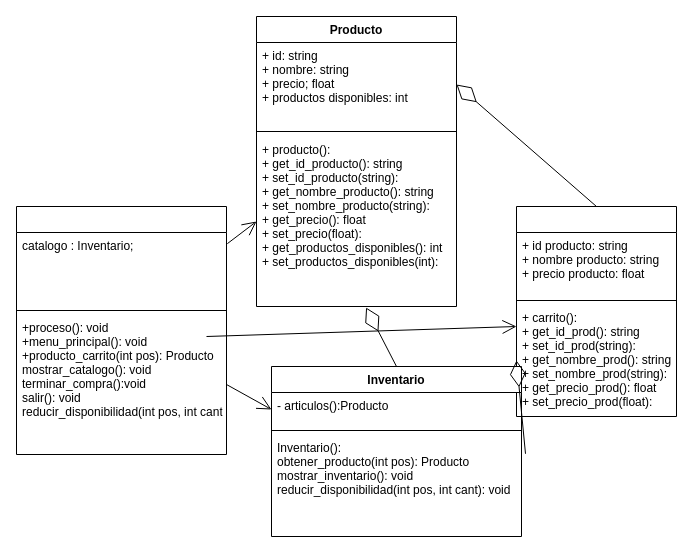
Some shapes in this 693 by 553 pixel diagram are drawn without their labels. The shapes that lost their labels are listed below. From the top down, each one's box as (x1, y1, x2, y2) in pixels, then its label:
(16, 206, 226, 454): Tienda
(516, 206, 676, 416): Carrito de compras
